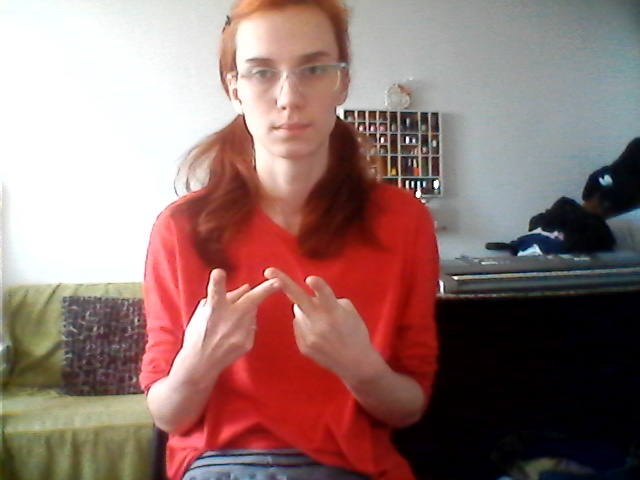w: (182, 255, 368, 385)
